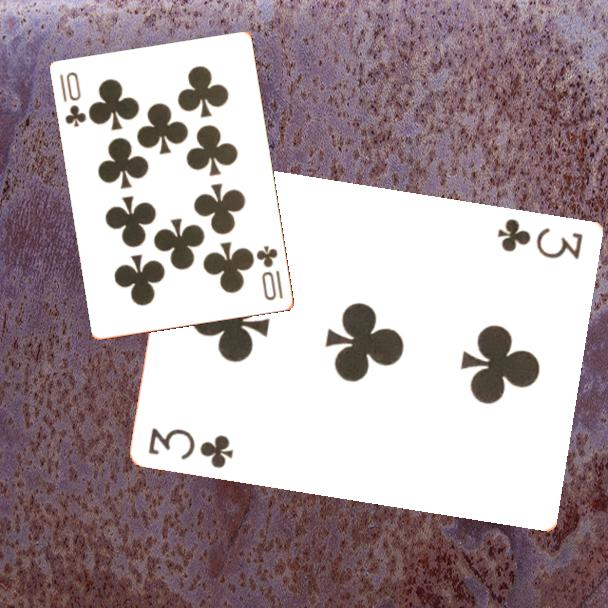c03: (494, 214, 586, 262), (145, 423, 237, 471)
c10: (56, 69, 90, 130), (253, 242, 286, 303)
